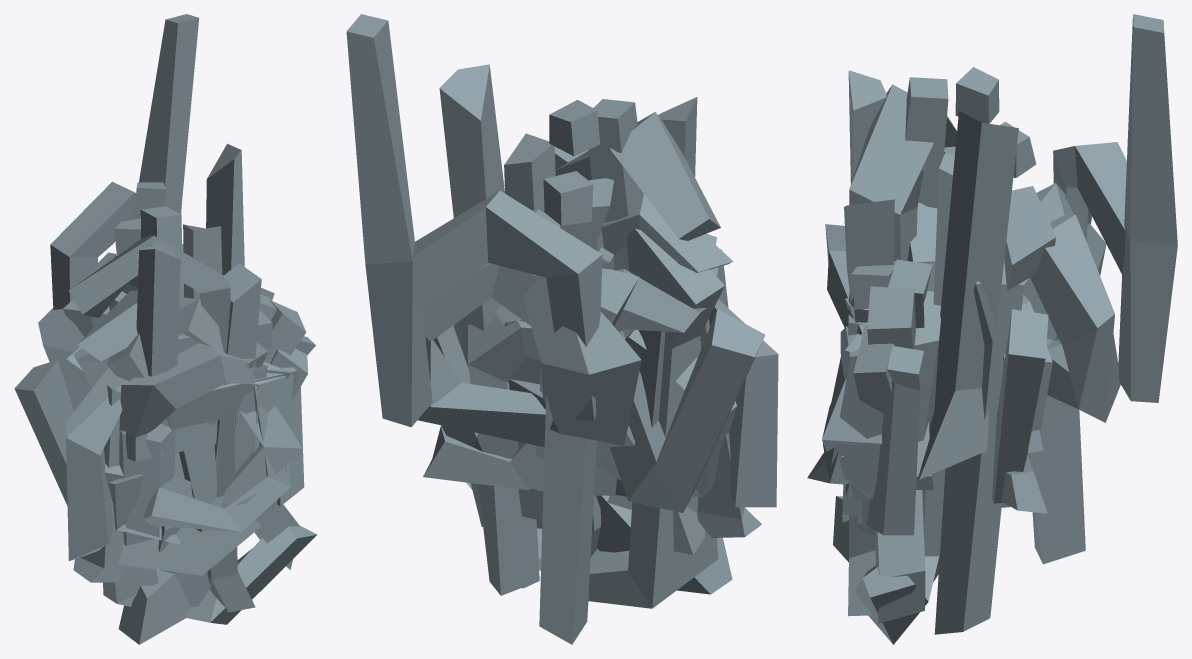
File: alphabets.glb
3 renders of one model, left to right at view 1: azimuth 30°, elevation 25°; view 2: azimuth 150°, elevation 25°; view 3: azimuth 270°, elevation 25°, orthographic. The views are drawn at different scales.
Visible parts, largest first — view 1: e, h, m, d, t, f, u, g, w, b, y, n (+11 smaller); view 2: h, q, p, w, g, j, f, b, m, s, r, k (+7 smaller); view 3: h, b, q, p, f, m, w, y, t, a, d, l (+12 smaller).
Part boxes in pixels (x1,y1,x2,y2): e: (119, 343, 291, 531); h: (50, 14, 199, 309); m: (65, 336, 315, 560); d: (136, 244, 302, 532); t: (118, 263, 296, 644); f: (68, 235, 255, 612); u: (73, 364, 266, 582); g: (73, 297, 317, 624); w: (14, 288, 274, 505); b: (206, 143, 244, 275); y: (106, 300, 306, 569); n: (119, 369, 291, 545); h: (346, 14, 602, 427); q: (418, 263, 639, 644); p: (459, 274, 641, 595); w: (433, 309, 765, 512); g: (466, 228, 724, 608); j: (423, 99, 613, 490); f: (555, 112, 720, 556); b: (439, 64, 639, 460); m: (453, 299, 778, 507); s: (594, 190, 736, 496); r: (496, 269, 706, 520); k: (504, 133, 704, 554); h: (1053, 14, 1177, 402); b: (917, 111, 1018, 479); q: (1028, 211, 1120, 564); p: (934, 183, 1106, 634); f: (848, 84, 956, 616); m: (845, 298, 923, 535); w: (992, 309, 1048, 503); y: (867, 286, 925, 623); t: (833, 199, 894, 562); a: (1003, 186, 1055, 431); d: (822, 70, 886, 451); l: (905, 77, 948, 208).
Bounding box in the file's own units: 0.3611 × 0.651 × 0.3318.
